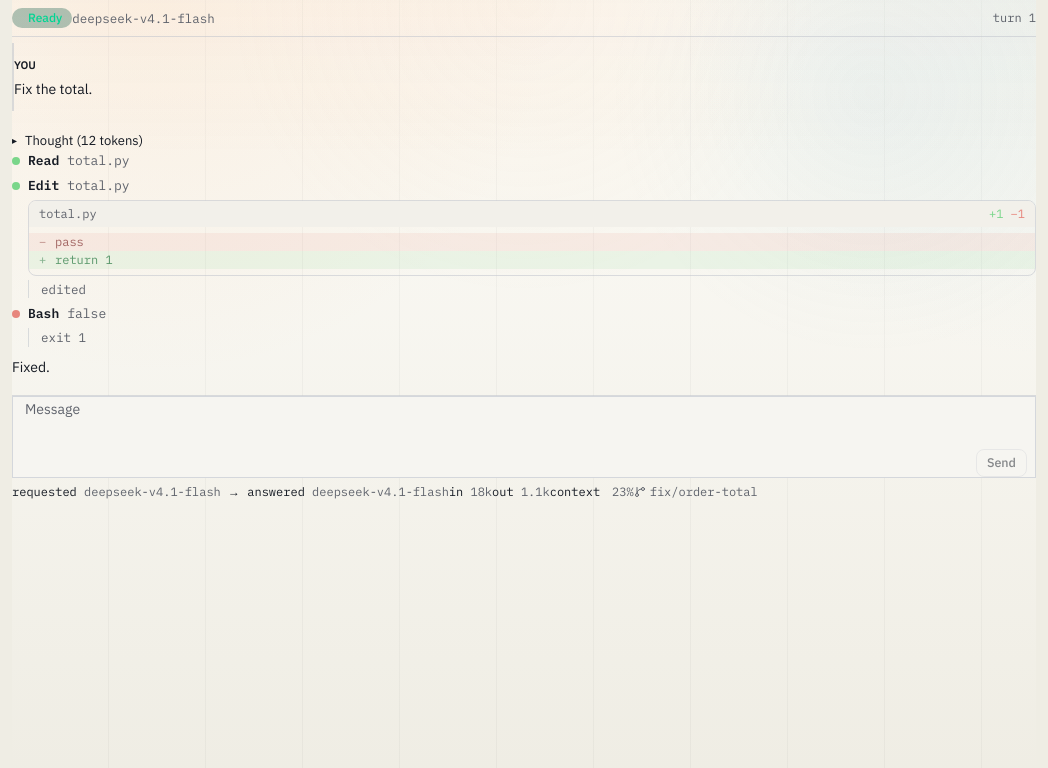
Test: the transcript layout › opens an edit with its diff, folds the rest, and opens output on click
expect the text "Fixed." is shown: met, box [12,358,50,376]
expect the element with test id "tool-diff" is shown: met, box [28,200,1036,276]
Click the button "Read total.py" at (27, 159), box [12,150,1036,170]
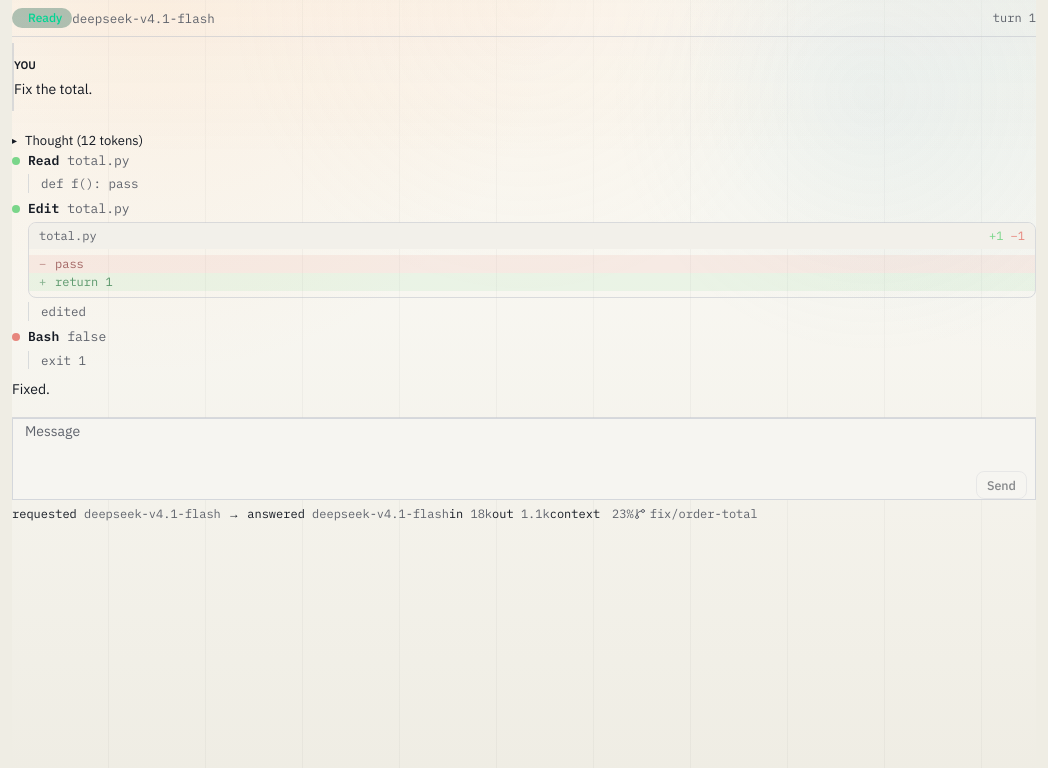
expect the text with test id "tool-output" reads "def f(): pass": met, box [41,175,138,191]
